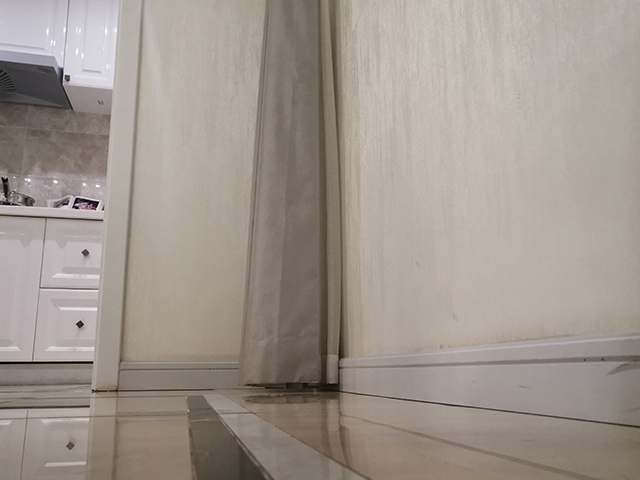cabinet: (1, 204, 107, 387)
curtain: (236, 1, 344, 392)
